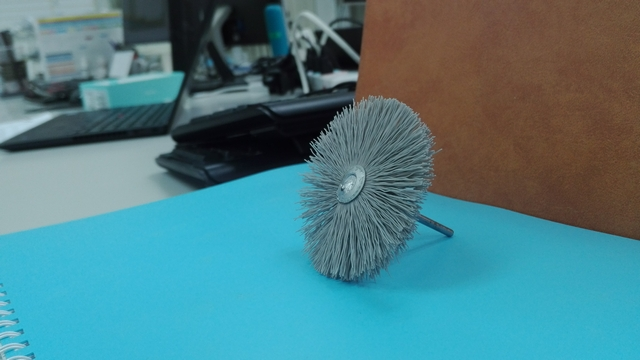TOOL: (230, 71, 527, 319), (251, 47, 438, 294), (295, 100, 487, 290)
